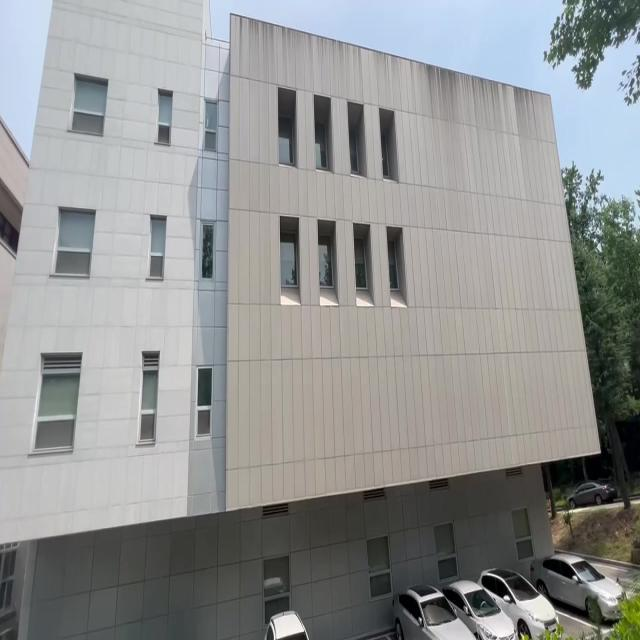building: (24, 0, 589, 555)
